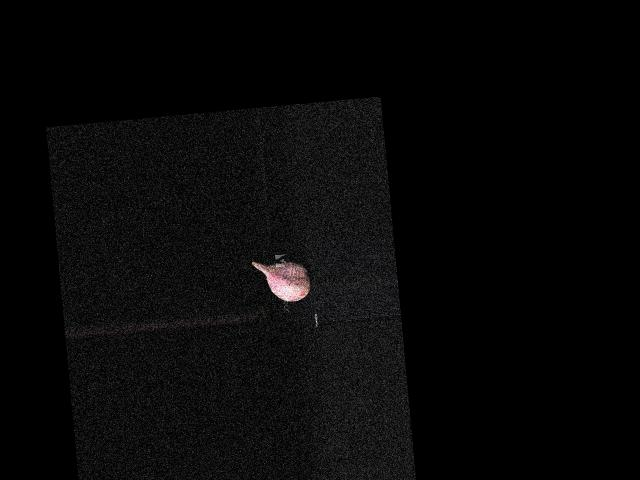beet: (252, 257, 311, 305)
